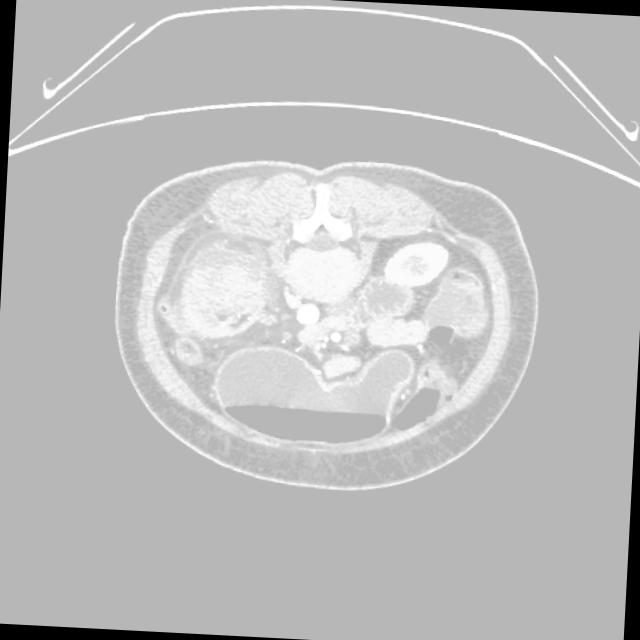TUMOR: (43, 238, 544, 409)
